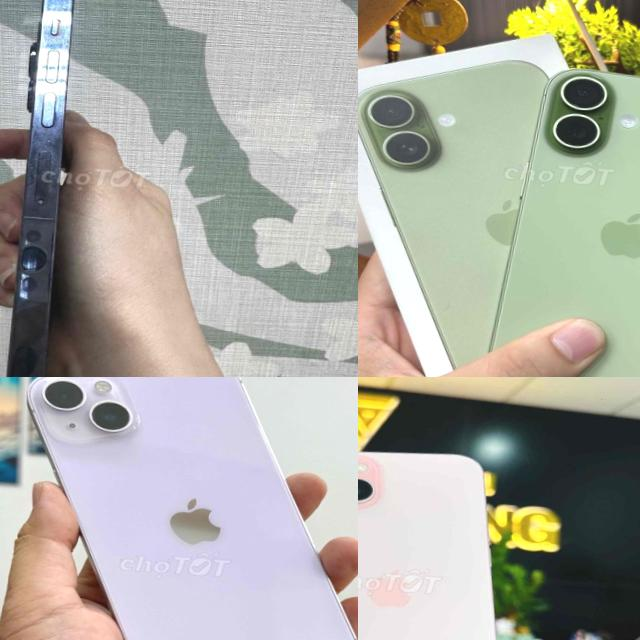gen_12_13: (0, 0, 108, 377)
gen_14: (0, 377, 358, 640)
gen_15: (358, 440, 524, 640)
gen_17: (484, 57, 640, 377)
